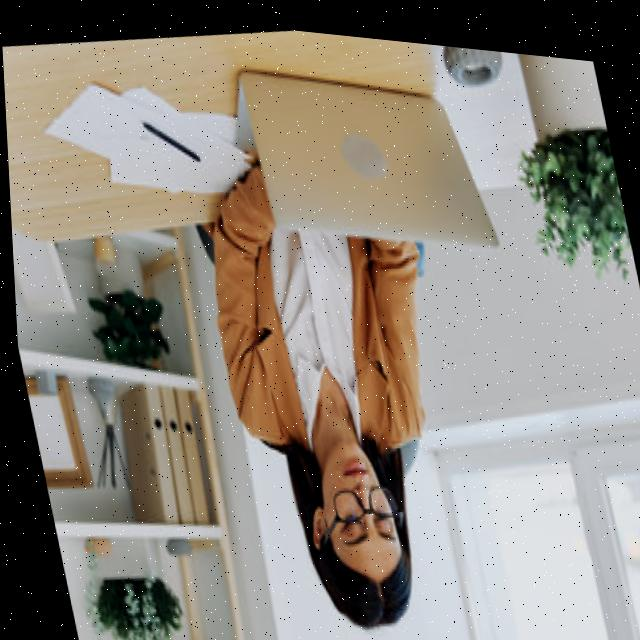notebook-person: (152, 12, 583, 640)
